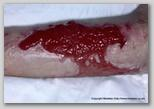NonPU: (16, 16, 144, 78)
